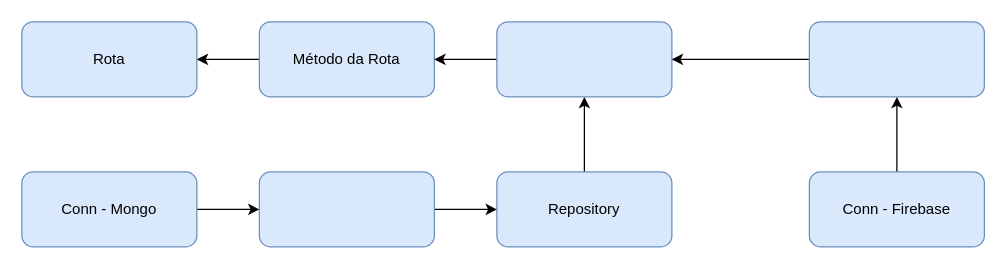
Some shapes in this 1006 by 269 pixel diagram are drawn without their labels. The box of each missing label's shape, as (x1, y1, x2, y2) in pixels:
Schema: (258, 171, 434, 247)
Serviço: (496, 21, 672, 97)
Serviço Firebase: (808, 21, 984, 97)
